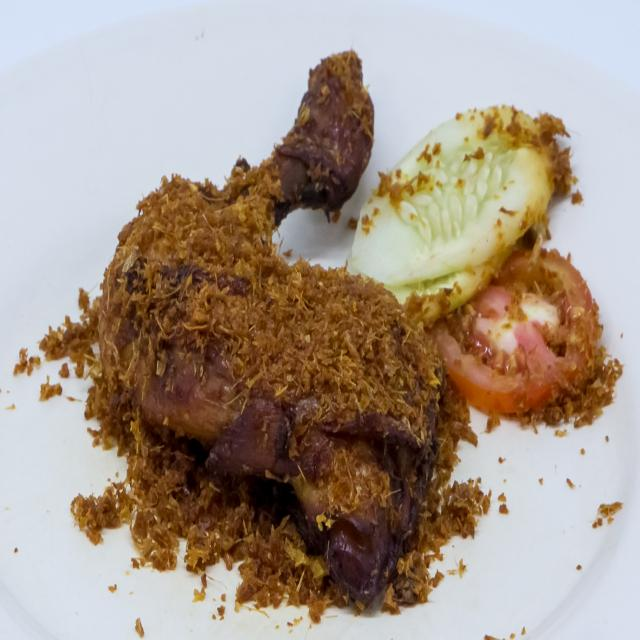Ayam-Goreng-Lengkuas: (81, 27, 452, 625)
